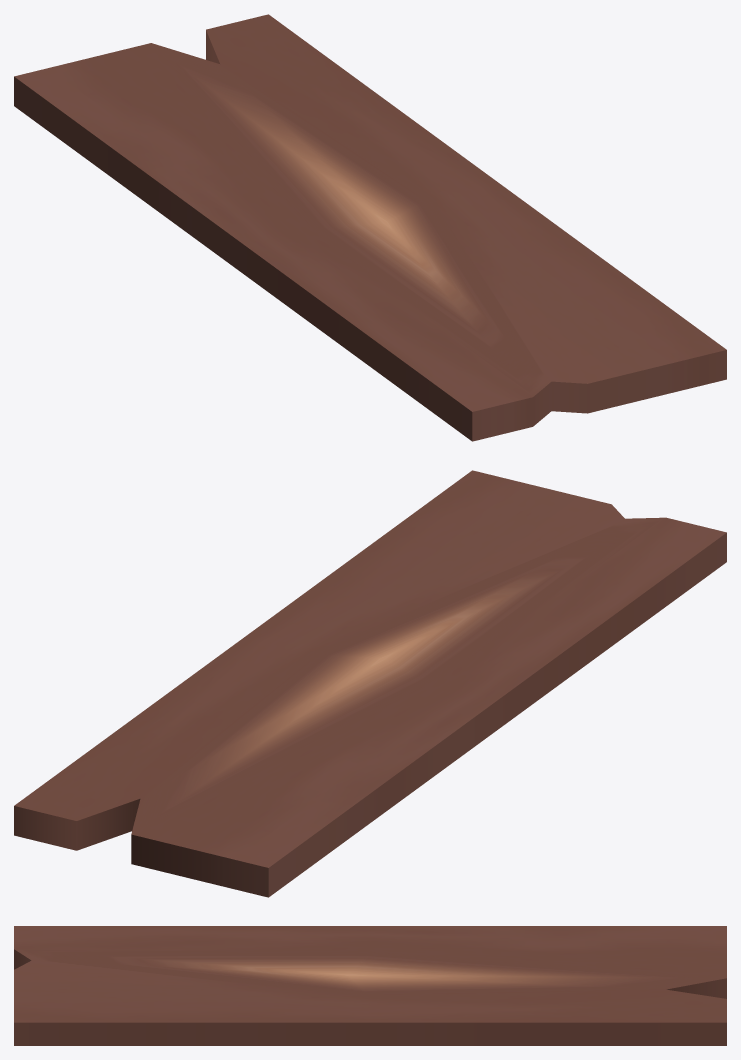
File: Planksmall.fbx
3 views of the same model, one above another, from view 1: azimuth 30°, elevation 25°; view 2: azimuth 150°, elevation 25°; view 3: azimuth 270°, elevation 25° (orthographic). The views are drawn at different scales.
Parts seen in each view (by area): view 1: pCube28; view 2: pCube28; view 3: pCube28.
Part boxes in pixels (x1,y1,x2,y2): pCube28: [14, 14, 726, 441]; pCube28: [14, 470, 726, 897]; pCube28: [14, 926, 726, 1045].
Bounding box in the file's own units: 173 × 19.28 × 540.
